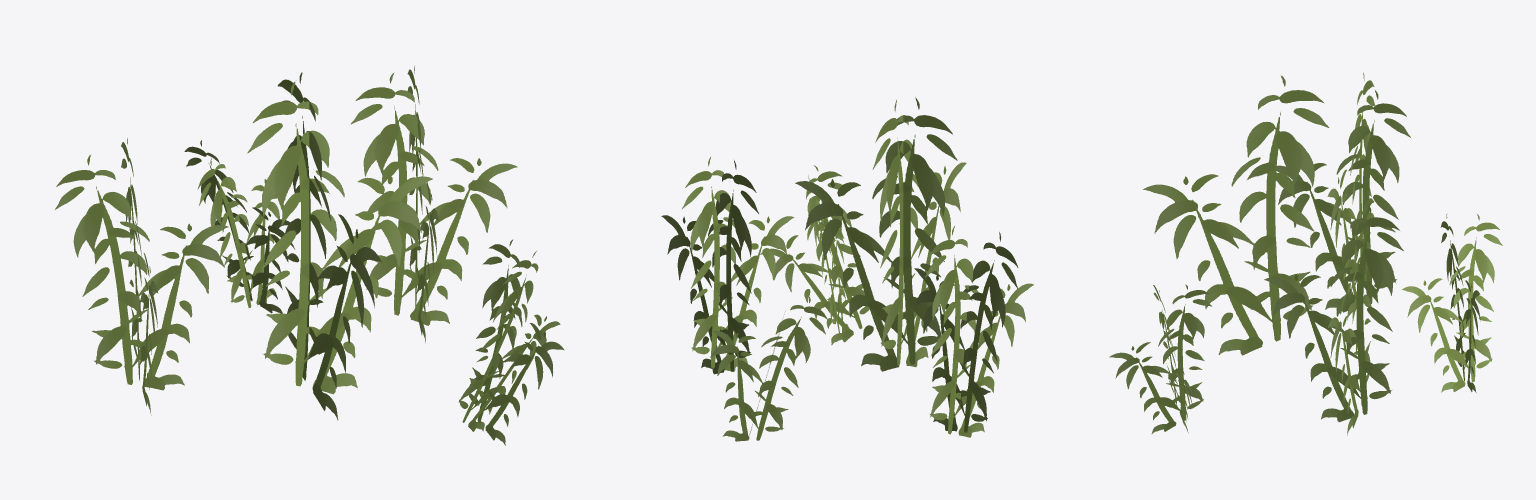
The model's file is Grass01.fbx.
3 views of the same model, side by side, from view 1: azimuth 30°, elevation 25°; view 2: azimuth 150°, elevation 25°; view 3: azimuth 270°, elevation 25° (orthographic). The views are drawn at different scales.
Visible parts, largest first — view 1: Grass01_LOD0; view 2: Grass01_LOD0; view 3: Grass01_LOD0.
Boxes of the visible parts, left/top/right/bottom form: Grass01_LOD0: left=55, top=66, right=564, bottom=445; Grass01_LOD0: left=661, top=97, right=1033, bottom=441; Grass01_LOD0: left=1109, top=72, right=1502, bottom=435.
Size of what is drawn, in the model's own units: 287 by 224 by 249.
